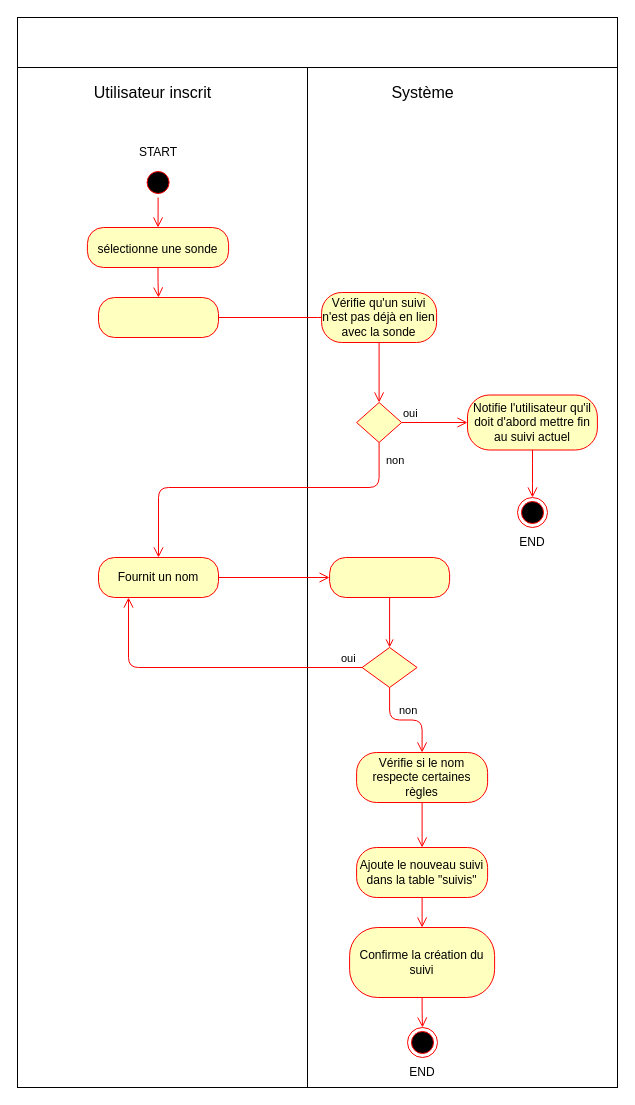
The diagram is 635 pixels wide and 1105 high, and some of its shapes have lost their labels. Each missing label, with the centre of its shape:
"Ajout d'un suivi en lien avec une sonde" goes at [317,42].
"initie l'ajout d'un suivi" goes at [158,317].
"Vérifie si le nom est déjà utilisé" goes at [389,577].
